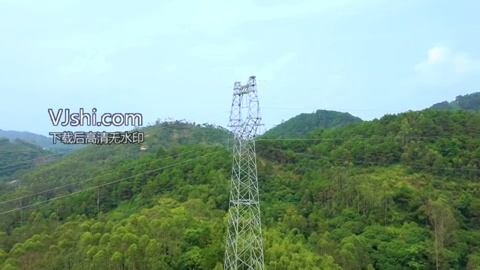tower_body: (218, 73, 273, 269)
tower_foot: (221, 231, 269, 270)
tower_head: (226, 75, 264, 141)
